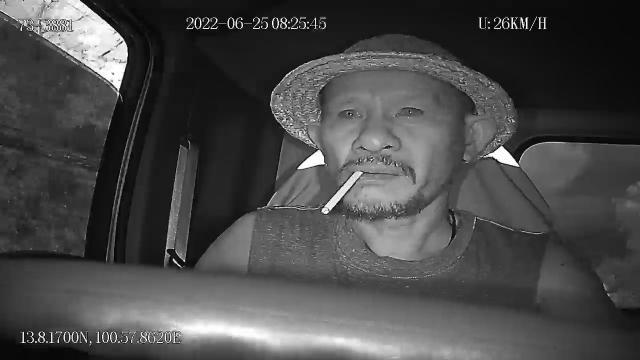SafeDriving: (388, 98, 431, 124), (332, 100, 368, 124)
Smoking: (322, 169, 370, 215)
